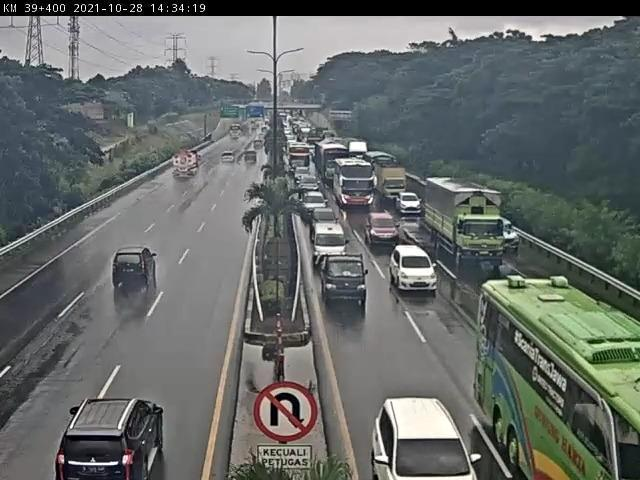bus: (474, 275, 640, 480), (333, 158, 377, 210), (288, 142, 314, 172)
car: (56, 401, 167, 480), (373, 396, 476, 480), (321, 254, 370, 308), (391, 245, 440, 298), (110, 246, 158, 289), (312, 224, 347, 267), (364, 212, 402, 247), (397, 193, 425, 218), (503, 220, 524, 251), (303, 192, 328, 218), (313, 207, 338, 225), (294, 167, 316, 184), (300, 176, 323, 192)
truck: (425, 177, 506, 270), (321, 148, 354, 187), (170, 148, 205, 183), (380, 165, 408, 203)
